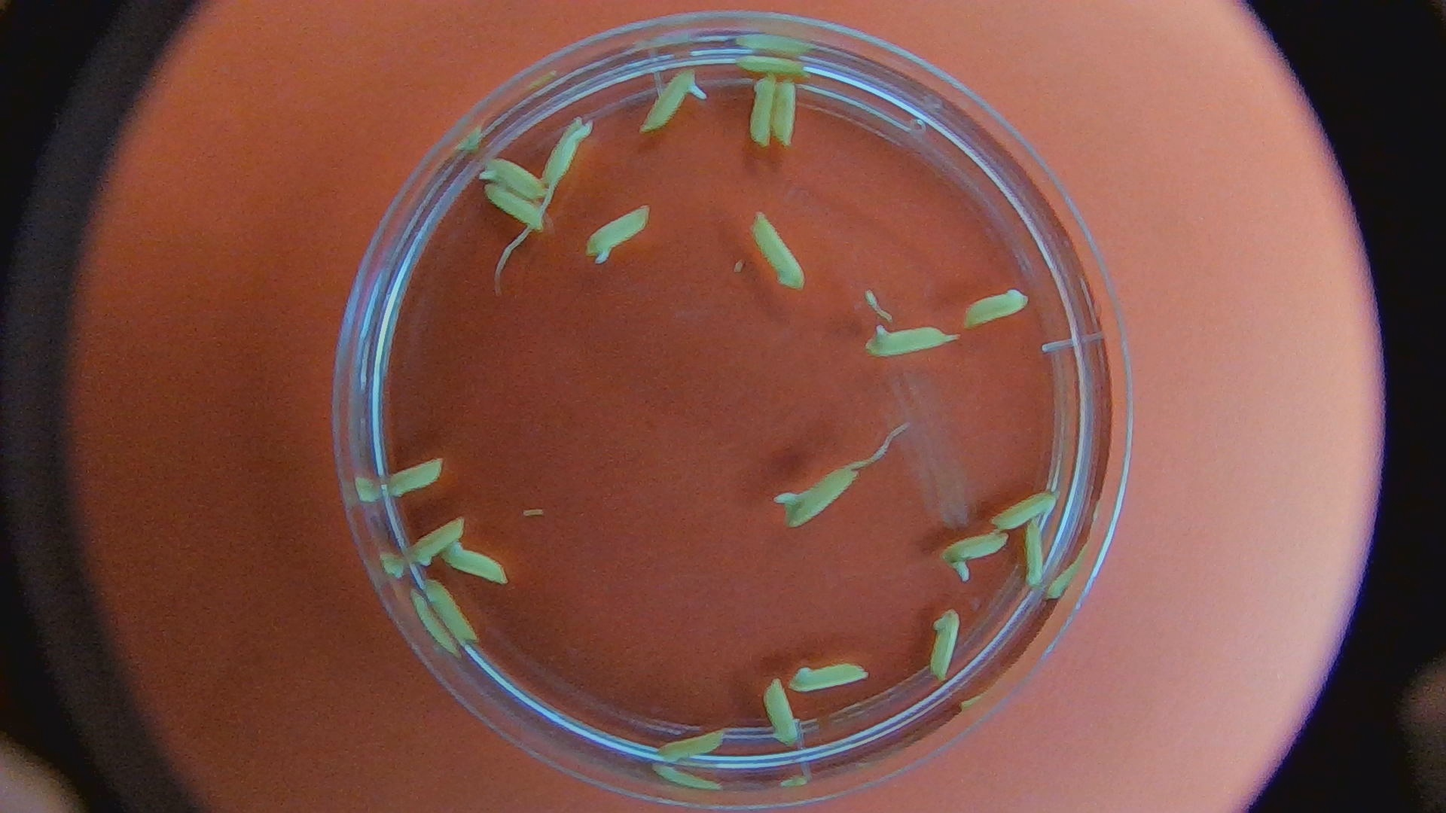no: (751, 211, 803, 291), (480, 185, 544, 246), (421, 577, 477, 640), (407, 514, 470, 567), (443, 536, 510, 583), (865, 323, 950, 360), (962, 288, 1033, 330), (541, 115, 587, 179), (786, 662, 870, 696), (994, 488, 1057, 531), (382, 458, 445, 498), (660, 728, 728, 763), (764, 677, 800, 743), (928, 608, 959, 678), (1022, 516, 1050, 586), (769, 78, 797, 145), (749, 73, 774, 147), (738, 54, 807, 77)
yes: (786, 464, 860, 526), (642, 65, 697, 132), (477, 151, 550, 199), (937, 529, 1010, 570), (587, 205, 647, 254)
